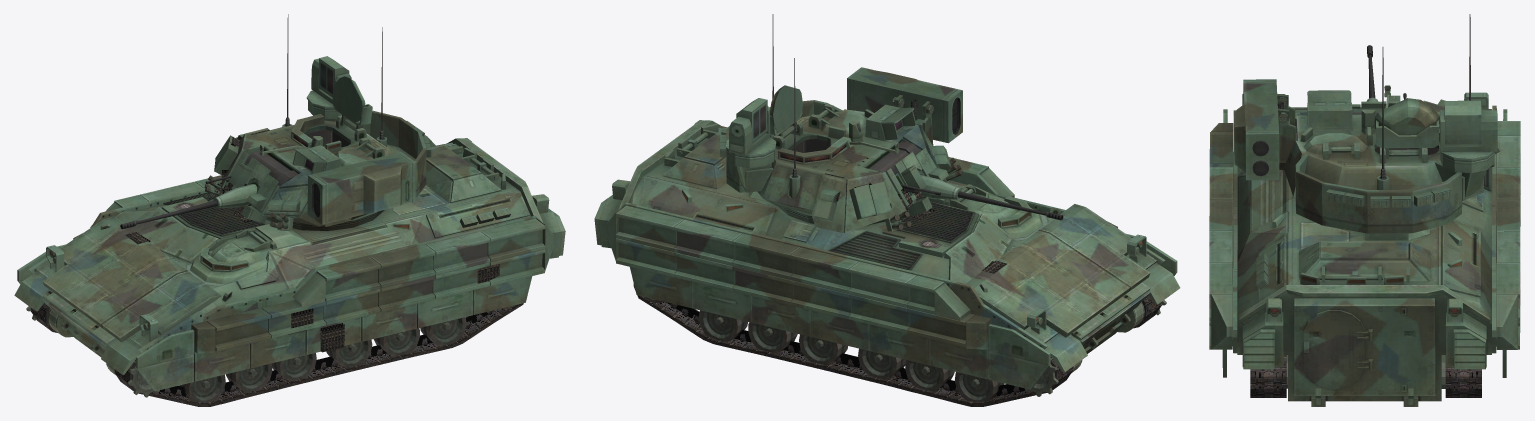
Rendered from United Defense M2 Bradley 'Statesman IFV'.obj.
3 views of the same model, side by side, from view 1: azimuth 30°, elevation 25°; view 2: azimuth 150°, elevation 25°; view 3: azimuth 270°, elevation 25° (orthographic). The views are drawn at different scales.
Parts seen in each view (by area): view 1: DrawCall_0503, DrawCall_0507, DrawCall_0506, DrawCall_0513, DrawCall_746, DrawCall_0510, DrawCall_0504, DrawCall_0508, DrawCall_744, DrawCall_740, DrawCall_745, DrawCall_741 (+5 smaller); view 2: DrawCall_0503, DrawCall_0507, DrawCall_0506, DrawCall_0663, DrawCall_0513, DrawCall_0510, DrawCall_0504, DrawCall_0508, DrawCall_0509, DrawCall_0522, DrawCall_0518, DrawCall_0519 (+4 smaller); view 3: DrawCall_0503, DrawCall_0507, DrawCall_0505, DrawCall_0513, DrawCall_0508, DrawCall_0512, DrawCall_0509, DrawCall_746, DrawCall_0663, DrawCall_0510, DrawCall_0511, DrawCall_0506.
Part boxes in pixels (box(x1,y1,x2,y2)): DrawCall_0503: box(14, 135, 565, 374); DrawCall_0507: box(204, 14, 431, 231); DrawCall_0506: box(17, 244, 532, 391); DrawCall_0513: box(307, 152, 415, 224); DrawCall_746: box(114, 303, 523, 406); DrawCall_0510: box(120, 151, 298, 229); DrawCall_0504: box(190, 228, 271, 283); DrawCall_0508: box(332, 76, 372, 130); DrawCall_744: box(226, 363, 272, 392); DrawCall_740: box(420, 317, 466, 345); DrawCall_745: box(179, 374, 225, 403); DrawCall_741: box(373, 328, 419, 356); DrawCall_0503: box(594, 120, 1180, 373); DrawCall_0507: box(720, 14, 961, 233); DrawCall_0506: box(630, 234, 1177, 389); DrawCall_0663: box(633, 284, 1072, 406); DrawCall_0513: box(847, 67, 962, 143); DrawCall_0510: box(869, 141, 1063, 220); DrawCall_0504: box(949, 185, 1042, 238); DrawCall_0508: box(770, 85, 802, 138); DrawCall_0509: box(726, 106, 776, 156); DrawCall_0522: box(905, 360, 954, 391); DrawCall_0518: box(698, 310, 747, 341); DrawCall_0519: box(748, 322, 797, 354); DrawCall_0503: box(1209, 92, 1520, 406); DrawCall_0507: box(1283, 14, 1500, 233); DrawCall_0505: box(1294, 298, 1435, 405); DrawCall_0513: box(1234, 79, 1289, 180); DrawCall_0508: box(1374, 98, 1439, 158); DrawCall_0512: box(1444, 100, 1481, 144); DrawCall_0509: box(1439, 110, 1497, 160); DrawCall_746: box(1250, 355, 1286, 397); DrawCall_0663: box(1445, 355, 1481, 397); DrawCall_0510: box(1352, 45, 1406, 114); DrawCall_0511: box(1277, 102, 1296, 169); DrawCall_0506: box(1222, 109, 1507, 377).
Size of the model in its own units: 6.36 by 3.85 by 3.26.
